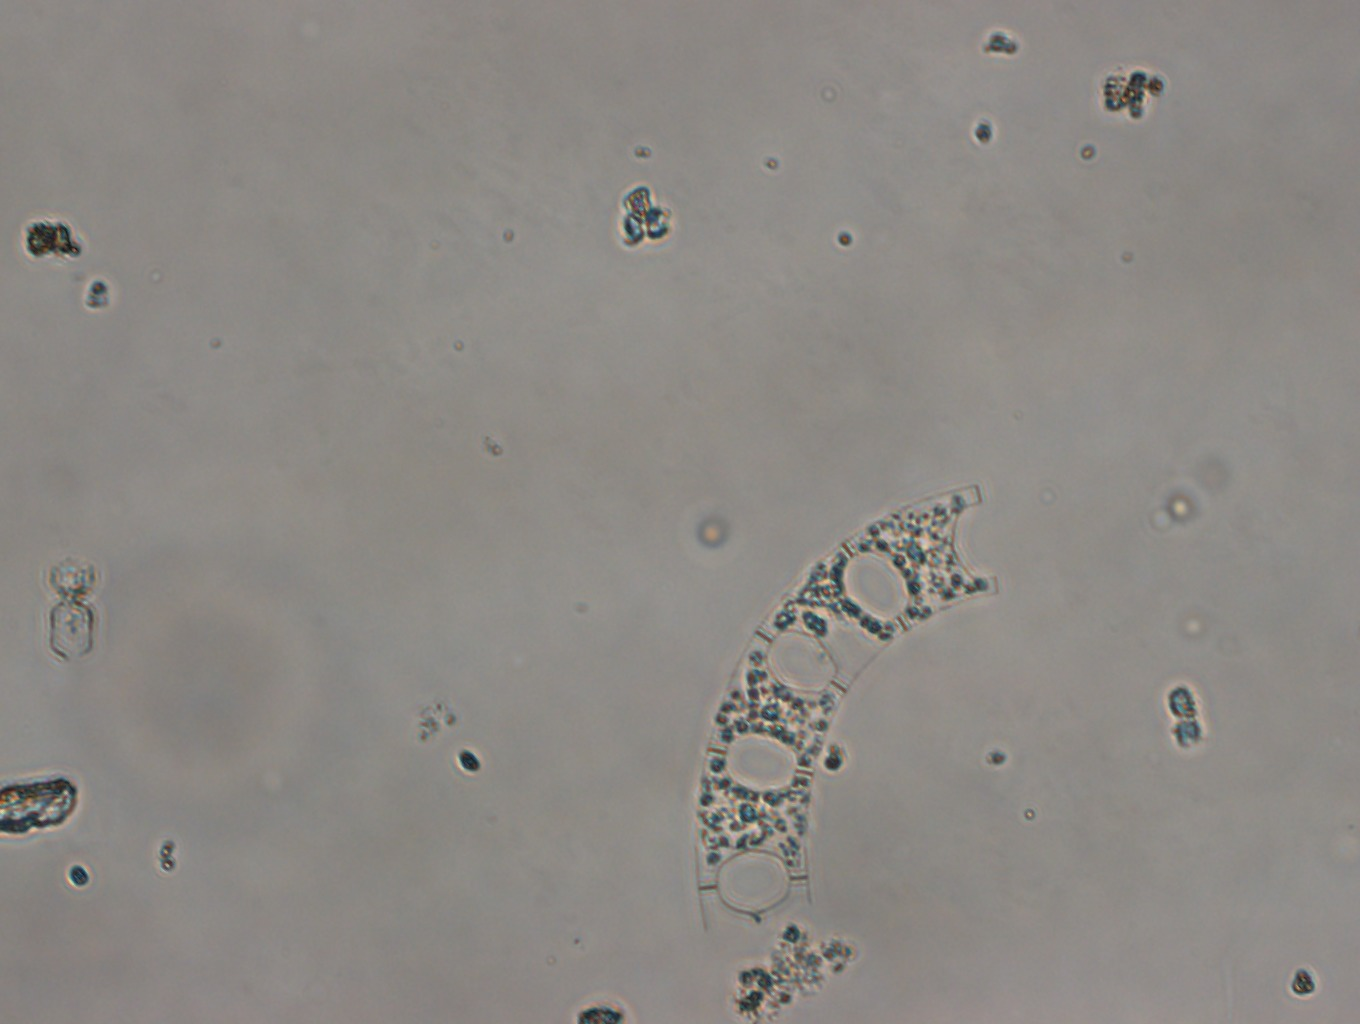eucampia: (689, 475, 1006, 931)
